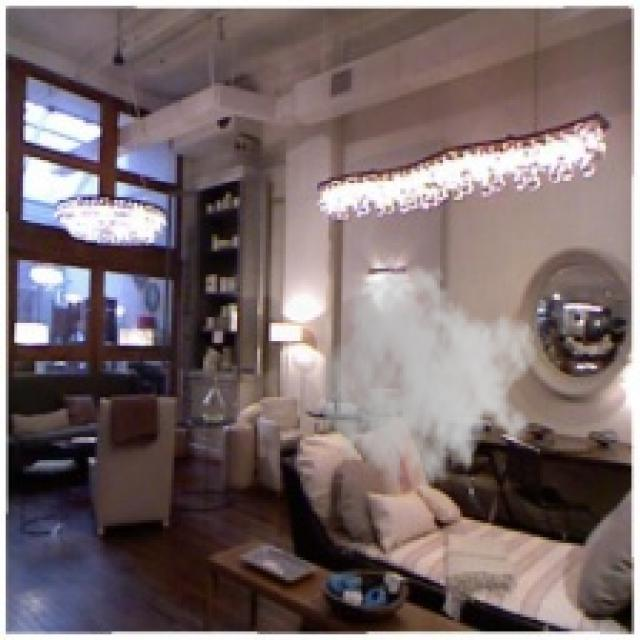smoke: (317, 255, 540, 514)
